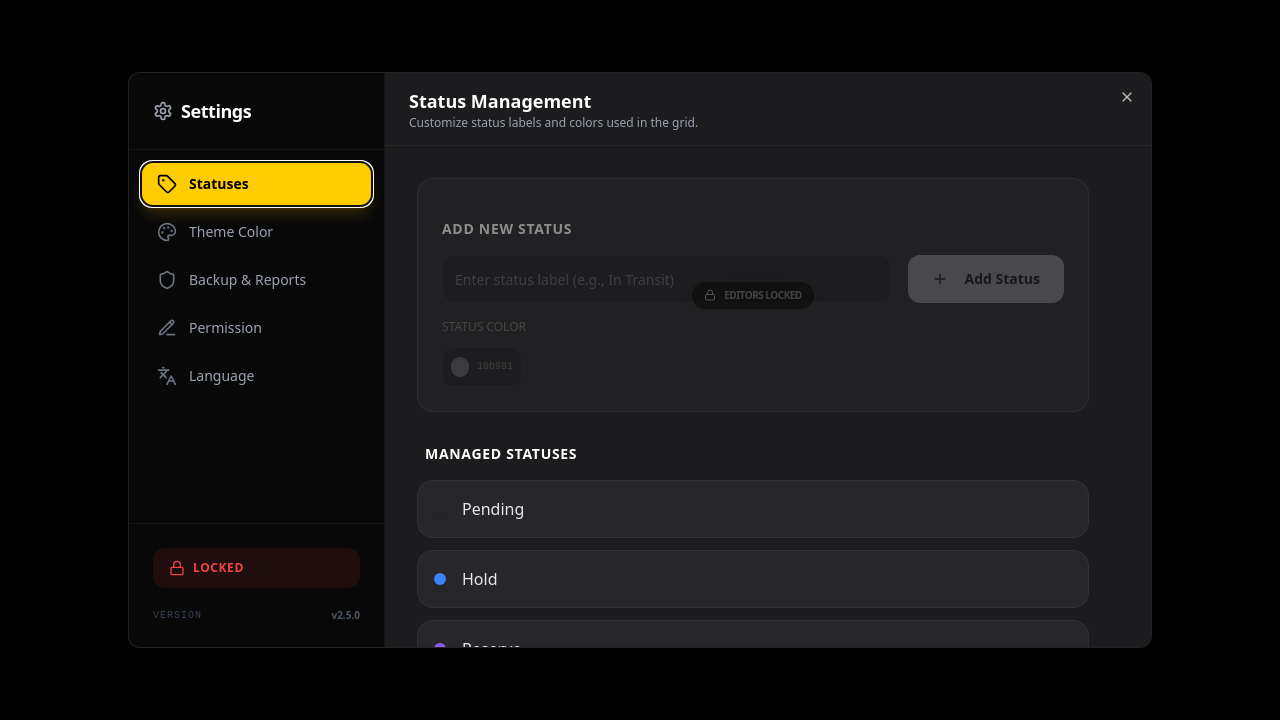
Test: SettingsModal i18n (Wave 4) › keeps the content header free of any language switch
The width and height of the screenshot is (1280, 720).
Click the button "Language" at (256, 376), box [141,354,372,398]
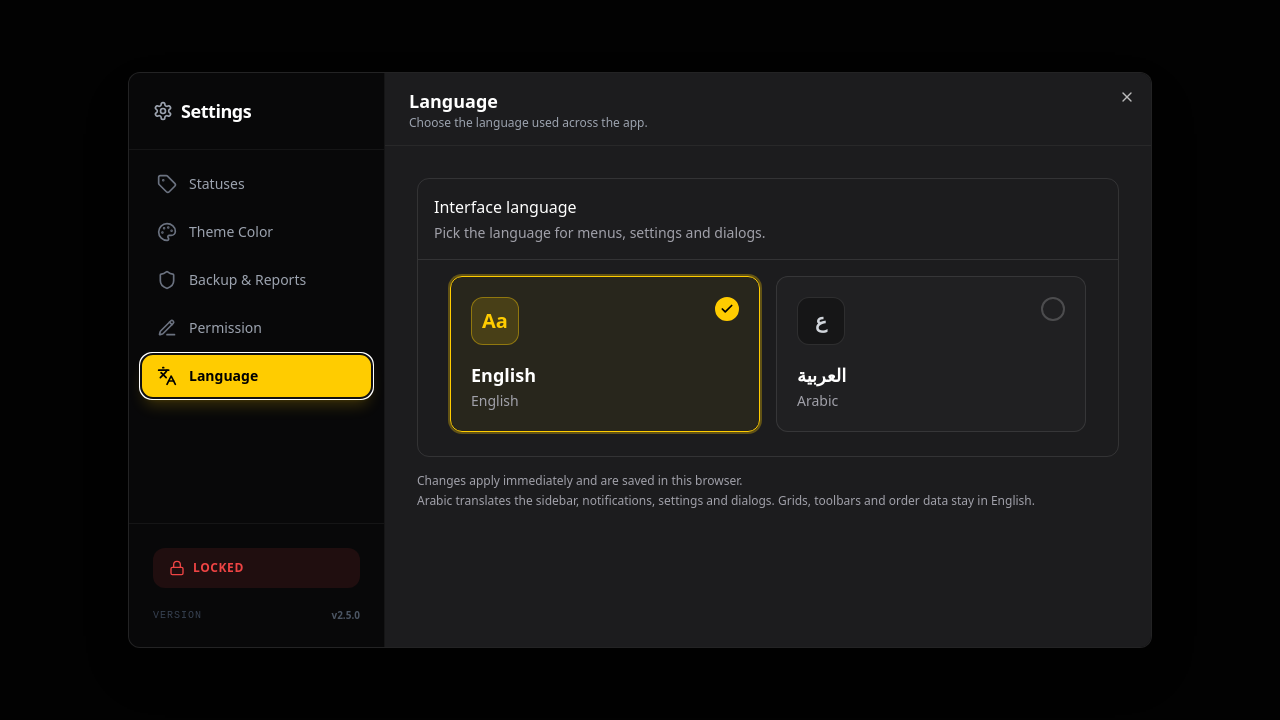
Expected: the header is shown, [385,73,1151,146]
Expected: the button "Add Status" is gone
Expected: the element named "Language" is shown, [418,276,1118,456]
